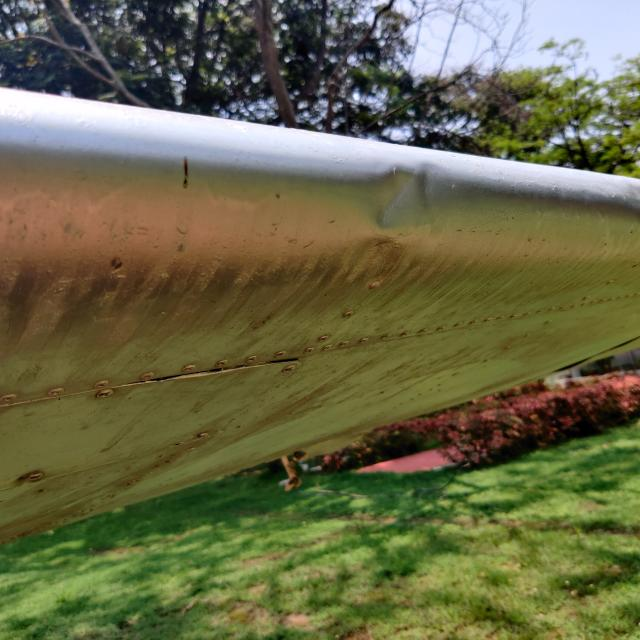dent: (342, 147, 456, 245)
